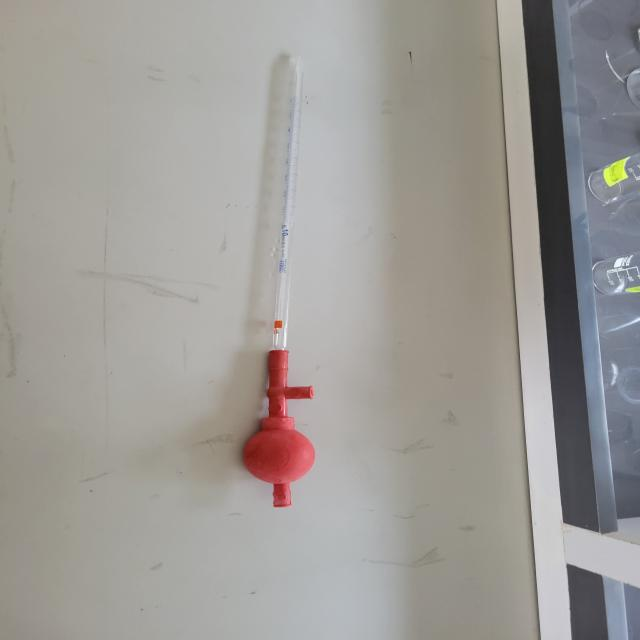Volumetric_Pipet: (218, 40, 345, 523)
